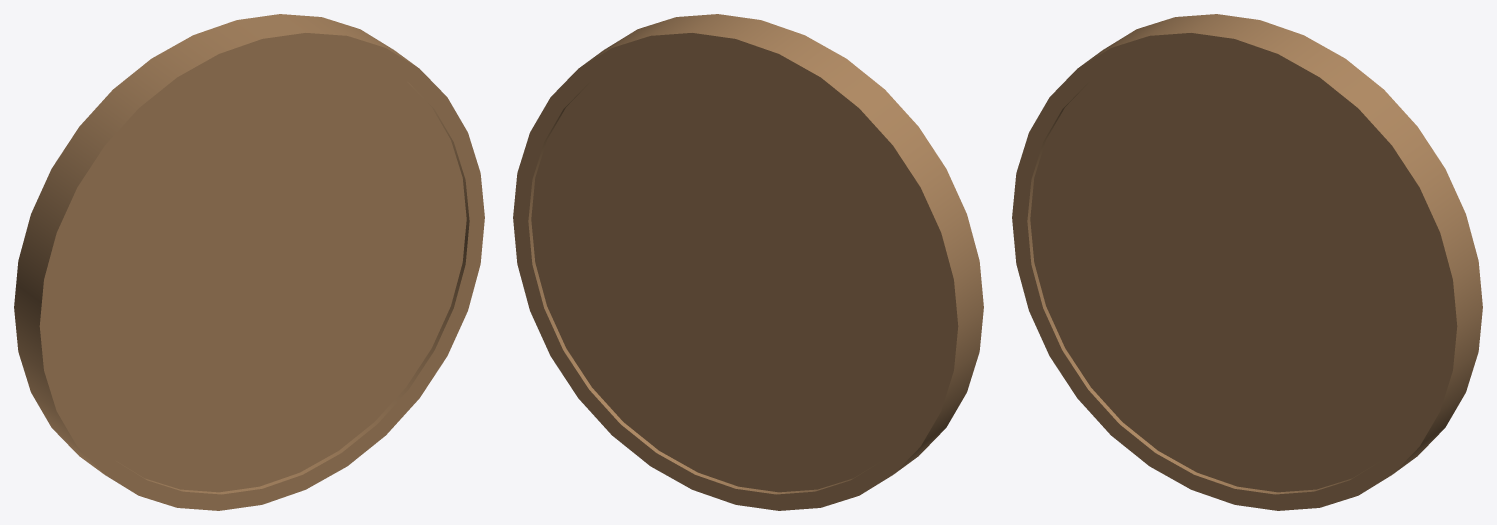
File: gold.gltf
3 views of the same model, side by side, from view 1: azimuth 30°, elevation 25°; view 2: azimuth 150°, elevation 25°; view 3: azimuth 330°, elevation 25° (orthographic).
Visible parts, largest first — view 1: Cylinder; view 2: Cylinder; view 3: Cylinder.
Part boxes in pixels (x1,y1,x2,y2): Cylinder: (14,14,484,510); Cylinder: (513,14,983,510); Cylinder: (1012,14,1482,510).
Size of the model in its own units: 0.1 by 0.1 by 0.01.
